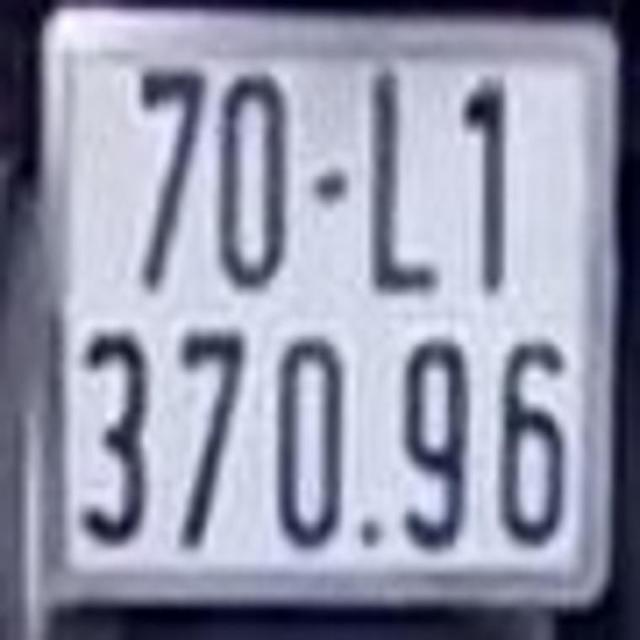0: (217, 70, 288, 288), (275, 336, 344, 547)
1: (460, 75, 516, 293)
3: (77, 327, 150, 546)
6: (501, 336, 568, 545)
7: (134, 65, 205, 292), (176, 328, 247, 549)
9: (402, 336, 469, 551)
L: (365, 67, 444, 294)
